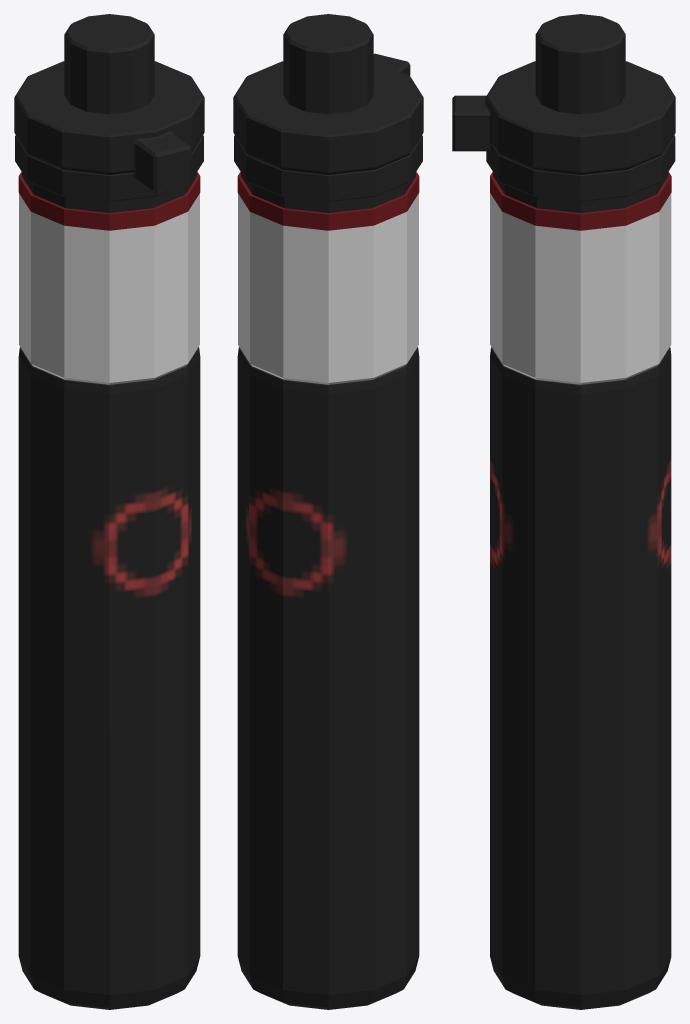
Rendered from Vape.fbx.
The picture shows the model from 3 angles, left to right: view 1: azimuth 30°, elevation 25°; view 2: azimuth 150°, elevation 25°; view 3: azimuth 270°, elevation 25°; orthographic projection.
Visible parts, largest first — view 1: Cylinder, Cylinder.006, Cylinder.002, Cylinder.005; view 2: Cylinder, Cylinder.006, Cylinder.002, Cylinder.005; view 3: Cylinder, Cylinder.006, Cylinder.002, Cylinder.005.
Part boxes in pixels (x1,y1,x2,y2): Cylinder: [18, 347, 200, 1009]; Cylinder.006: [14, 14, 204, 213]; Cylinder.002: [19, 193, 199, 384]; Cylinder.005: [18, 172, 200, 230]; Cylinder: [237, 347, 419, 1009]; Cylinder.006: [233, 14, 423, 213]; Cylinder.002: [238, 193, 418, 384]; Cylinder.005: [237, 172, 419, 230]; Cylinder: [490, 347, 671, 1009]; Cylinder.006: [452, 14, 675, 213]; Cylinder.002: [490, 193, 671, 384]; Cylinder.005: [490, 171, 671, 230].
Size of the model in its own units: 3.75 by 20.55 by 4.41.
5 materials, 1 textured.
